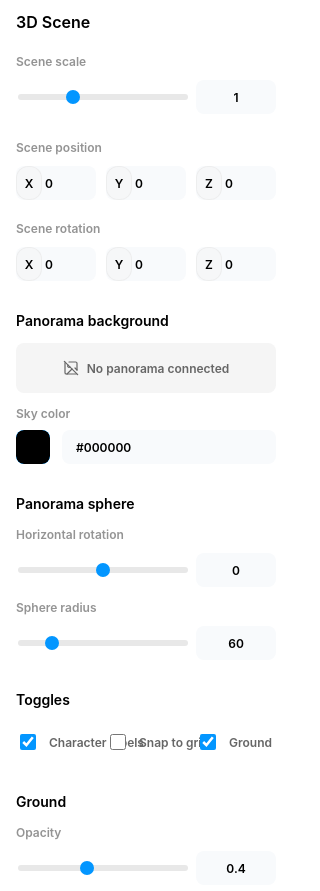
updates scene scale from both slider and numeric input
Expected: the slider named "Scene scale slider" holds "1", x1=18 y1=90 x2=188 y2=104
Replace the text in the number field named "Scene scale" with "1.35" at (236, 97), box x1=196 y1=80 x2=276 y2=114
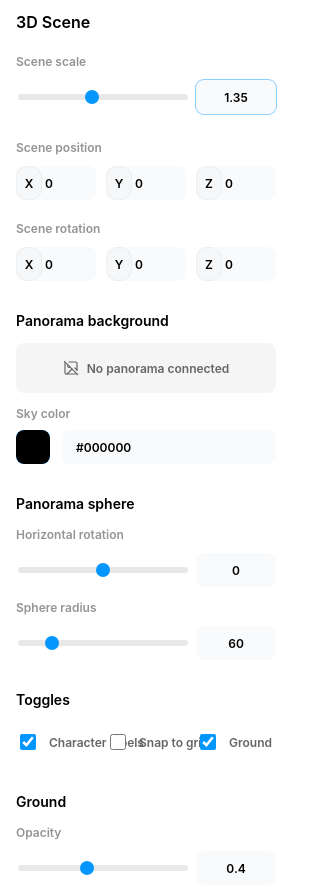
Expected: the slider named "Scene scale slider" holds "1.35"
Set the slider named "Scene scale slider" to "1.8" at (116, 97), box x1=18 y1=90 x2=188 y2=104
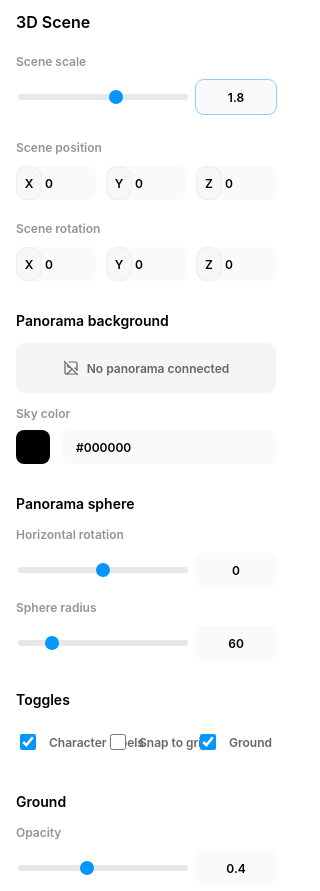
Expected: the number field named "Scene scale" holds "1.8", x1=196 y1=80 x2=276 y2=114
